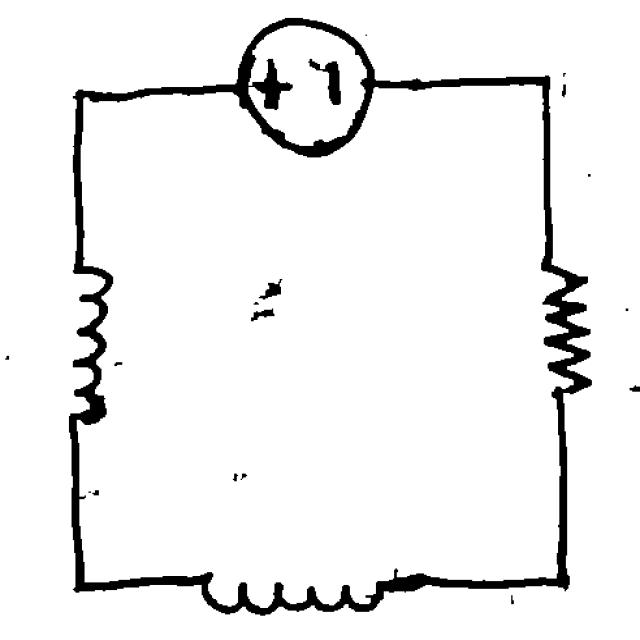dc: (224, 12, 376, 162)
inductor: (180, 556, 412, 624), (47, 238, 124, 441)
resistor: (520, 247, 614, 409)
